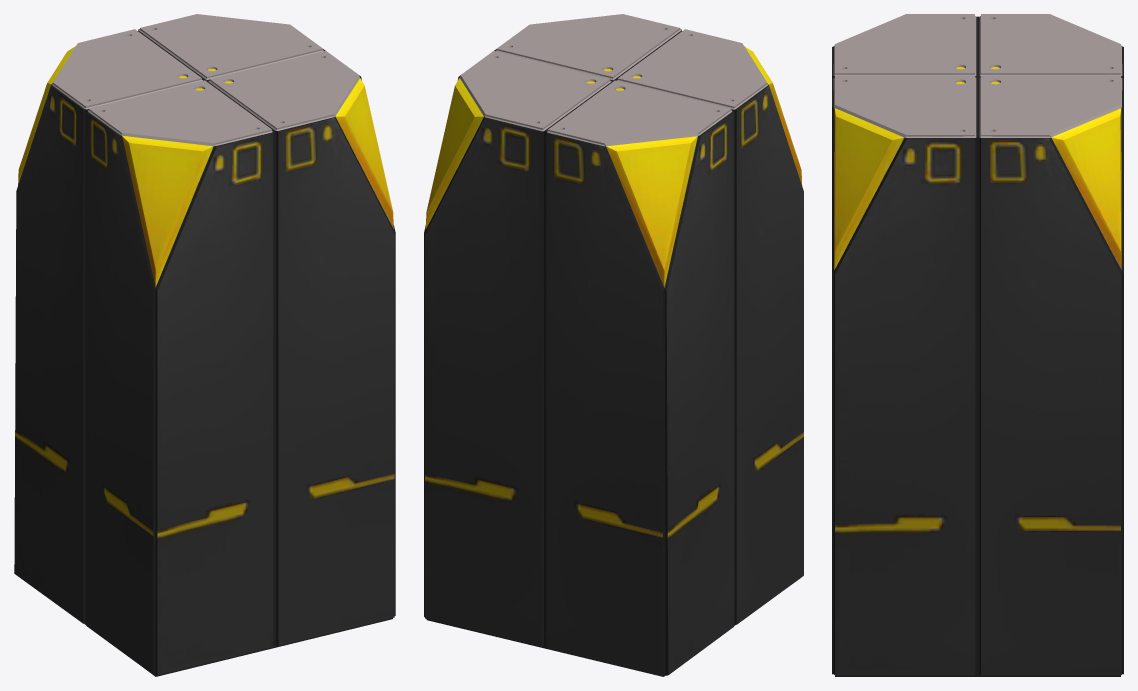
Rendered from EMP.glb.
3 renders of one model, left to right at view 1: azimuth 30°, elevation 25°; view 2: azimuth 150°, elevation 25°; view 3: azimuth 270°, elevation 25°, orthographic. The views are drawn at different scales.
Visible parts, largest first — view 1: EMP; view 2: EMP; view 3: EMP.
Boxes of the visible parts, <box> form: EMP: <box>14,14,395,676</box>; EMP: <box>424,14,803,676</box>; EMP: <box>832,14,1123,676</box>.
Bounding box in the file's own units: 4.03 × 8.19 × 4.
Materials: 1 (1 with a texture image).
